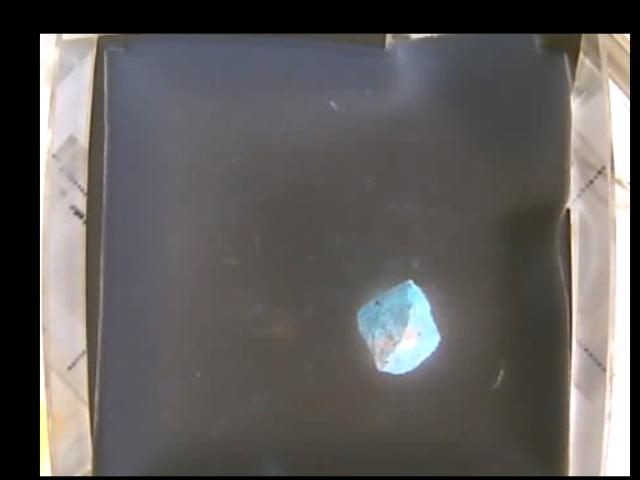Brisk: (358, 278, 441, 373)
